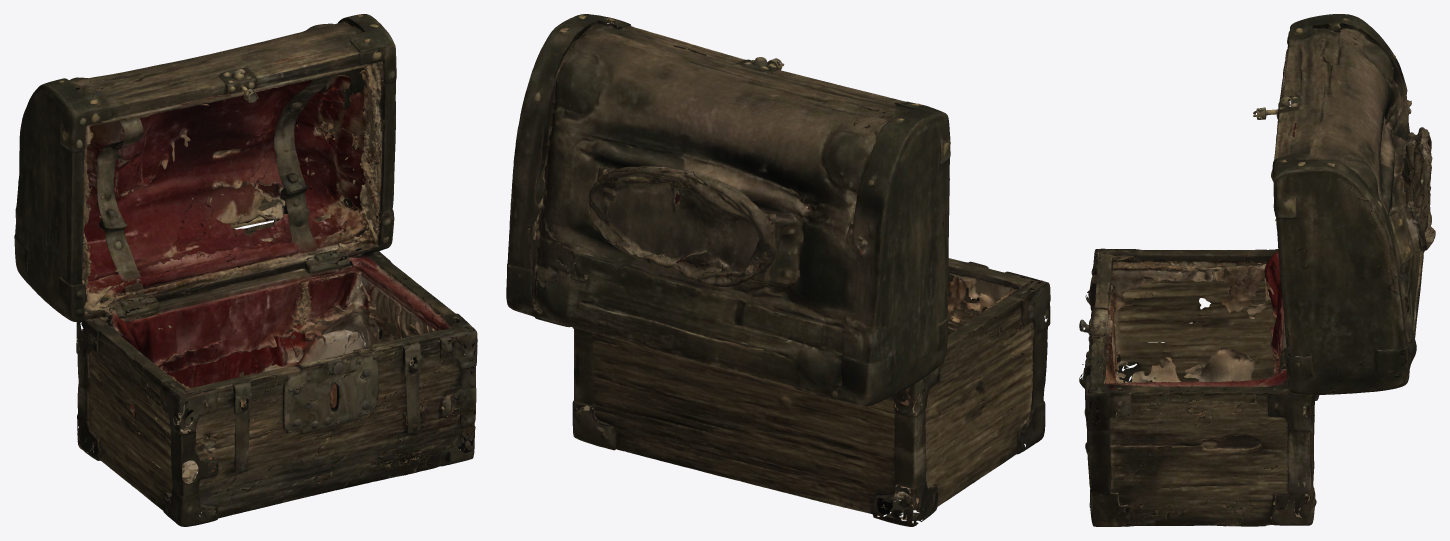
The model's file is TC002_Trellis 2.glb.
The picture shows the model from 3 angles, left to right: view 1: azimuth 30°, elevation 25°; view 2: azimuth 150°, elevation 25°; view 3: azimuth 270°, elevation 25°; orthographic projection. The views are drawn at different scales.
Visible parts, largest first — view 1: world; view 2: world; view 3: world.
Part boxes in pixels (x1,y1,x2,y2): world: [14, 14, 477, 526]; world: [506, 14, 1050, 526]; world: [1079, 14, 1435, 526].
Bounding box in the file's own units: 0.9432 × 0.9985 × 0.8777.
1 material, 1 textured.
